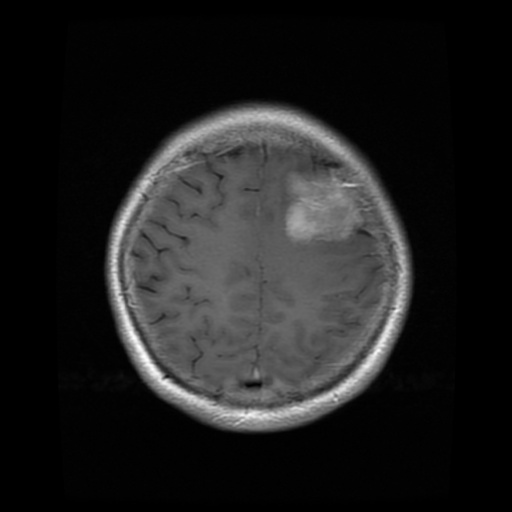meningioma: (280, 169, 363, 242)
